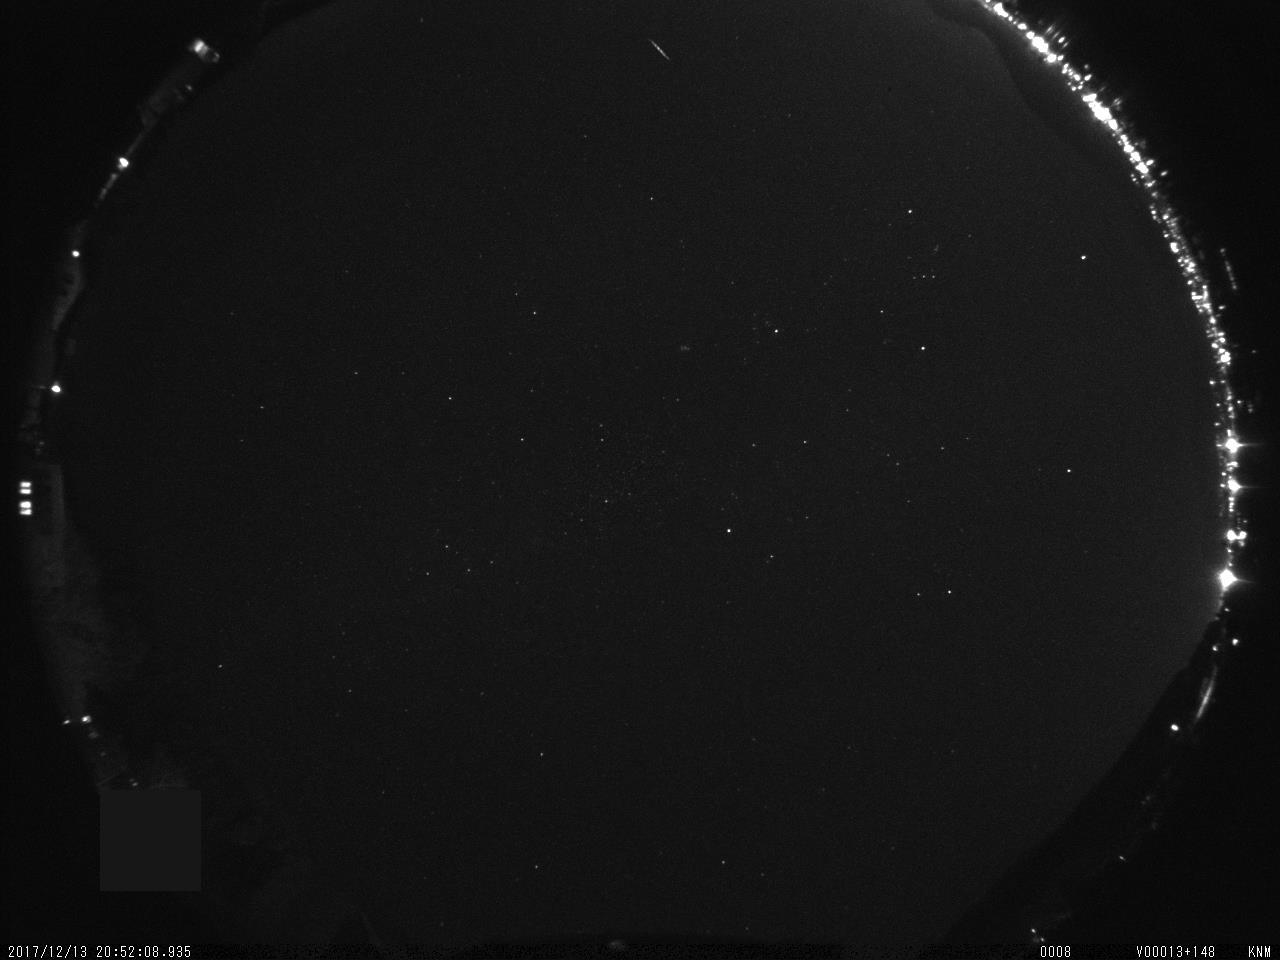meteor: (640, 32, 675, 69)
